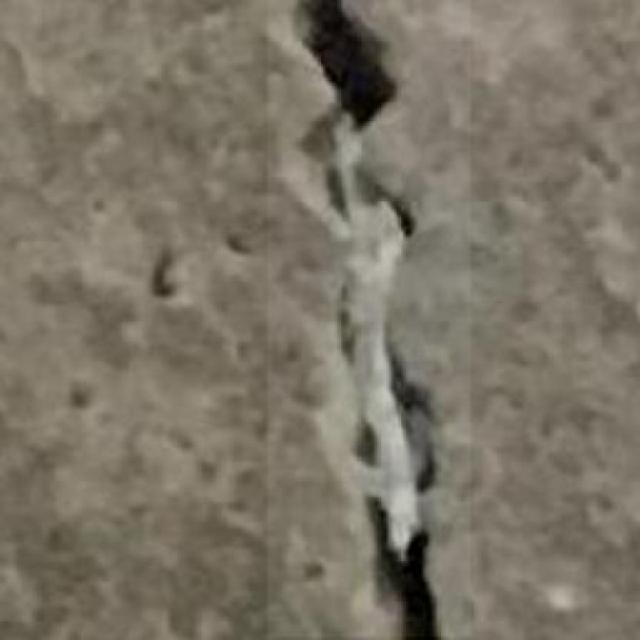Crack: (346, 484, 475, 640), (280, 0, 418, 143)
